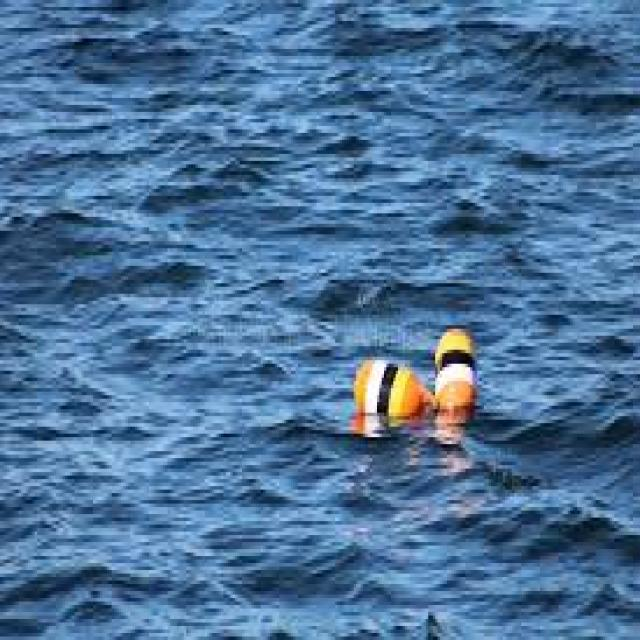Buoy: (352, 304, 486, 447)
